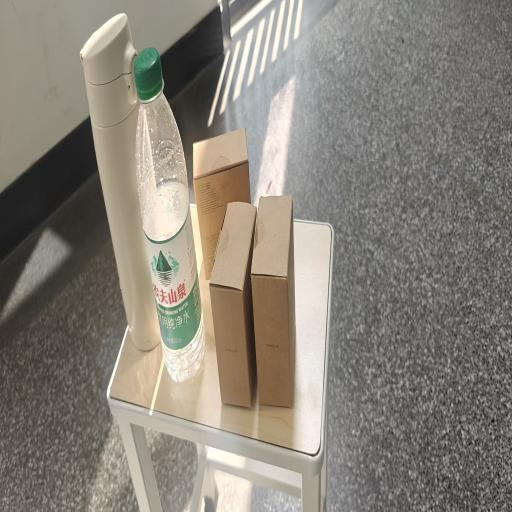bottle: (80, 13, 161, 350), (133, 47, 205, 382)
box: (210, 202, 257, 407), (251, 196, 296, 406), (193, 128, 251, 279)
